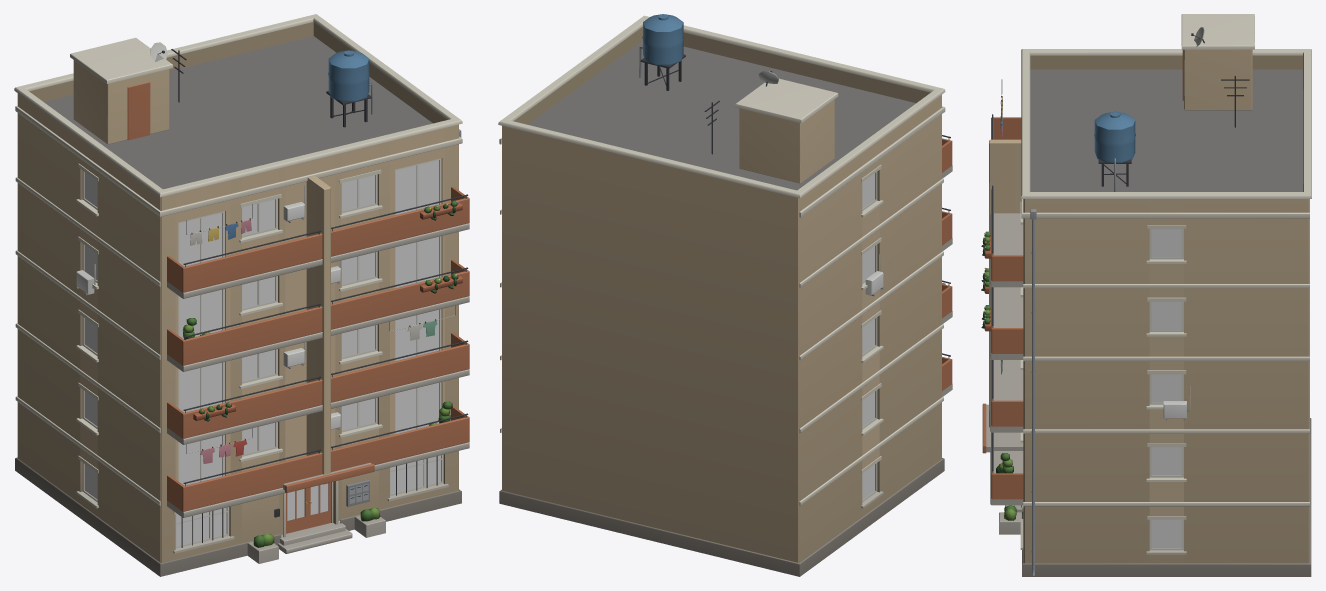
Rendered from Apartment.fbx.
The picture shows the model from 3 angles, left to right: view 1: azimuth 30°, elevation 25°; view 2: azimuth 150°, elevation 25°; view 3: azimuth 270°, elevation 25°; orthographic projection.
Visible parts, largest first — view 1: Apartment; view 2: Apartment; view 3: Apartment.
Part boxes in pixels (x1,y1,x2,y2): Apartment: [14, 14, 469, 576]; Apartment: [498, 14, 952, 576]; Apartment: [981, 14, 1311, 576].
Bounding box in the file's own units: 12.62 × 17.13 × 11.55.
